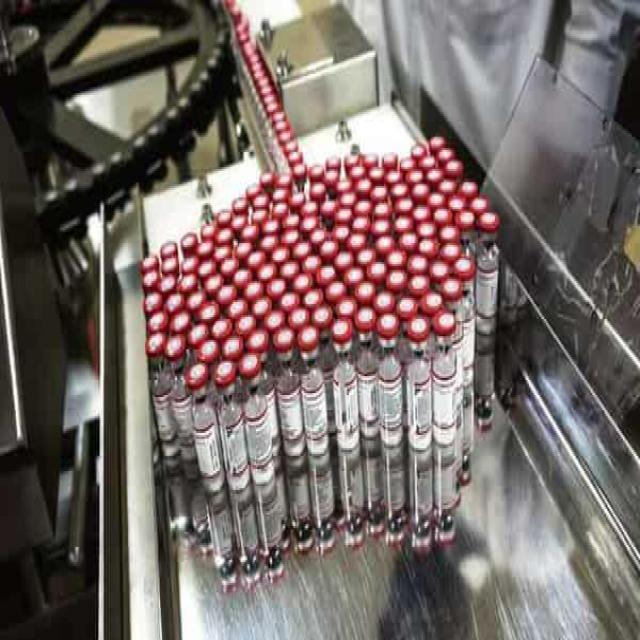B3: (185, 355, 225, 500), (236, 344, 274, 486), (216, 355, 250, 500), (403, 311, 434, 456), (330, 315, 360, 452), (298, 319, 328, 456), (275, 325, 304, 463), (433, 304, 459, 450), (376, 310, 403, 450), (355, 310, 382, 440), (474, 207, 499, 334)
